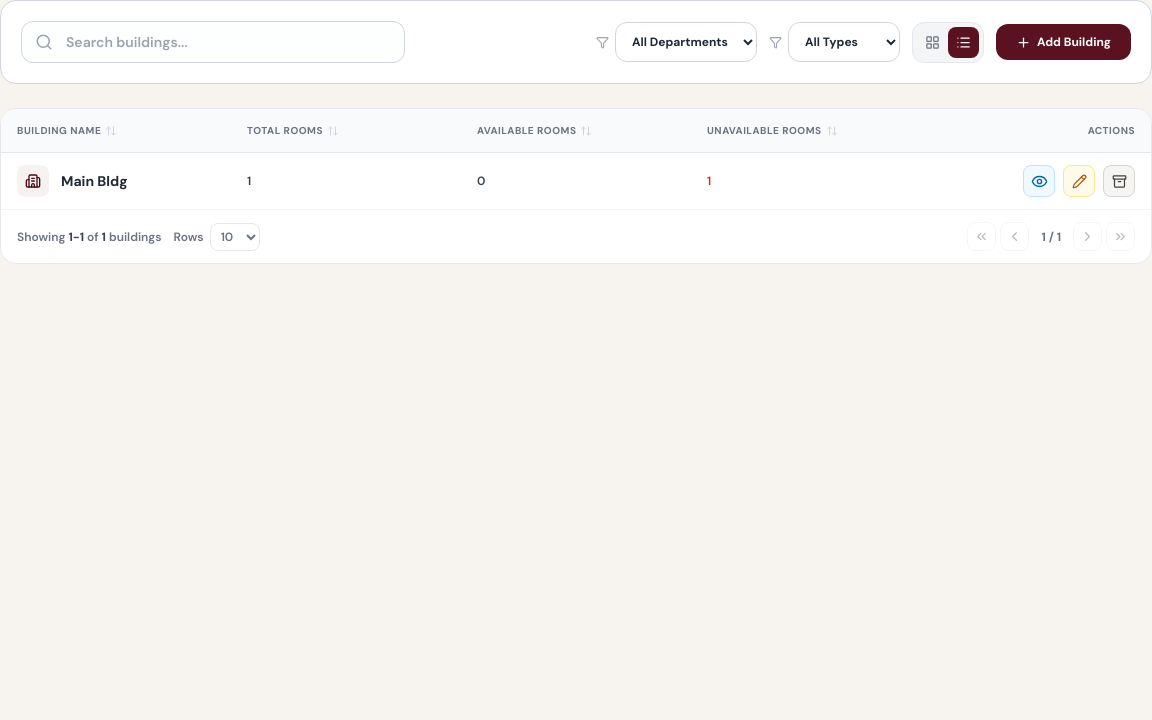
Scenario: Rooms component › edits room details without a status control or status write for not available rooms
Click the text "Main Bldg".
click(94, 181)  # box [61,171,128,191]
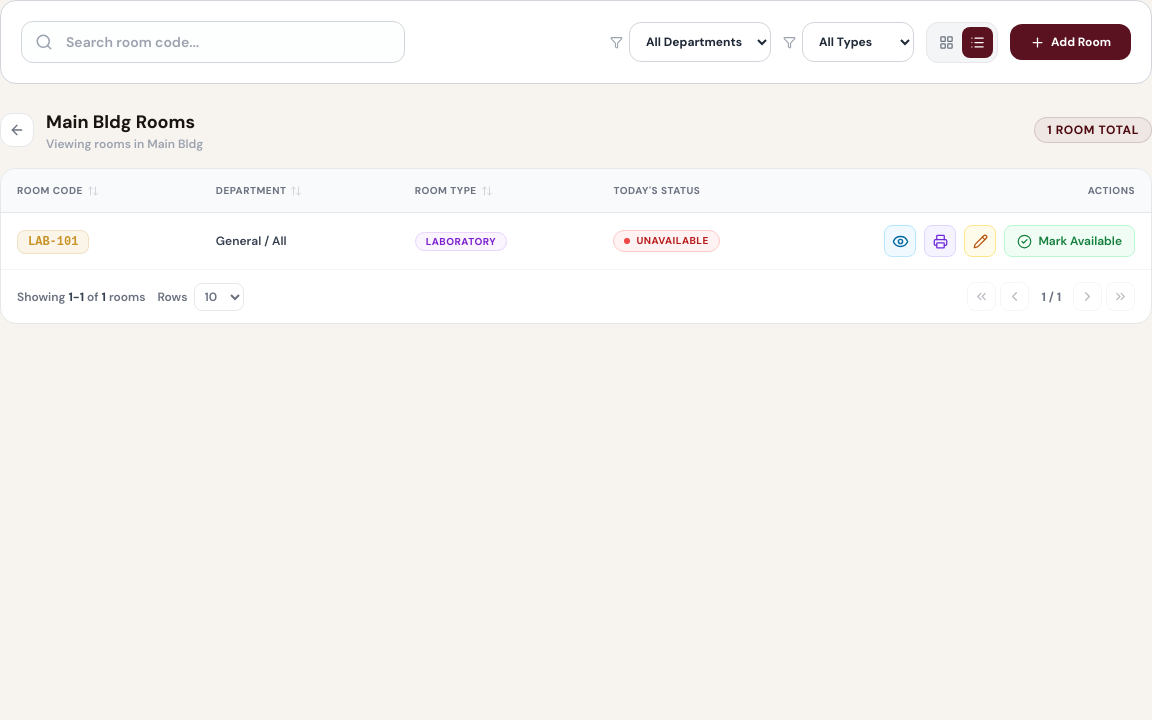
Click the button named "Edit Room".
click(980, 241)  # box [964,225,996,257]
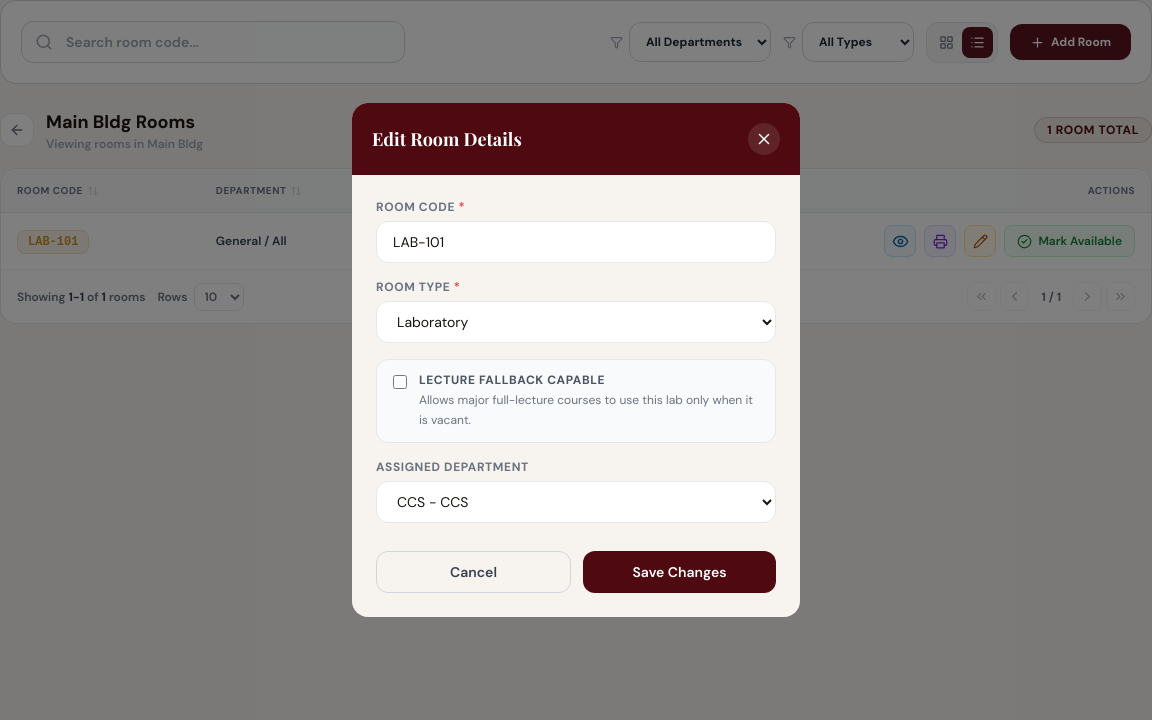
Check: the heading "Edit Room Details" is shown, box [372,125,522,153]
Replace the text in the field showing "LAB-101" with "LAB-102" at (576, 242), box [376,221,776,263]
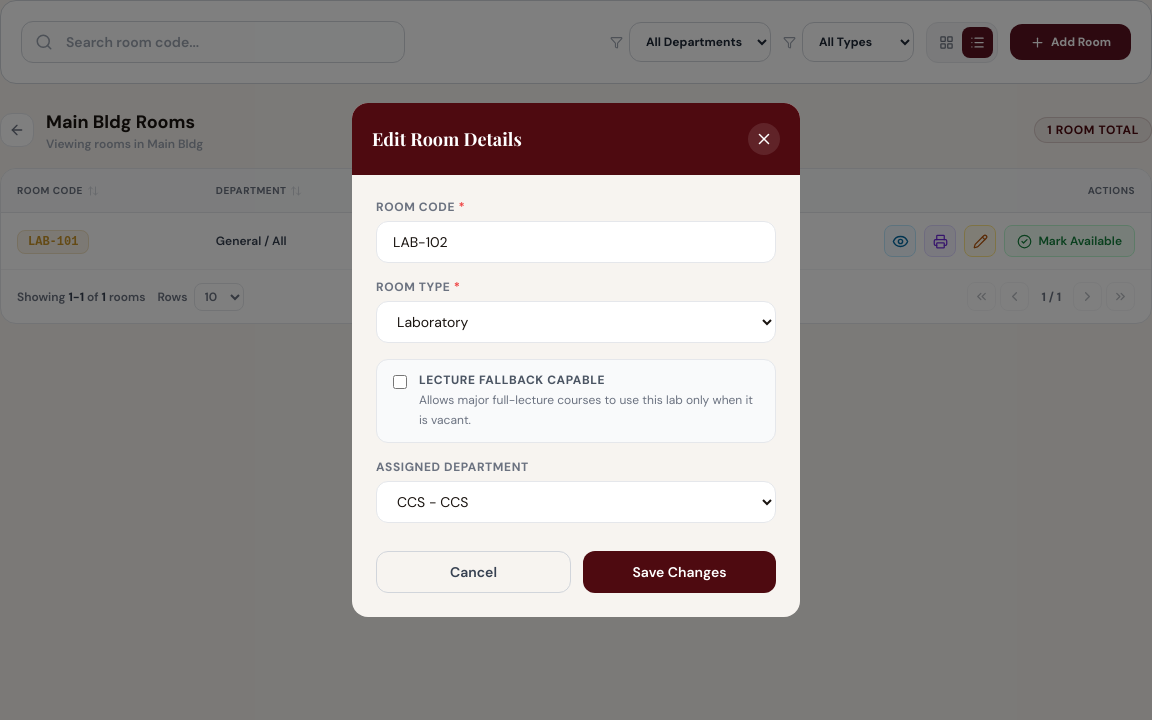
Click the button "Save Changes".
click(680, 572)  # box [583,551,776,593]
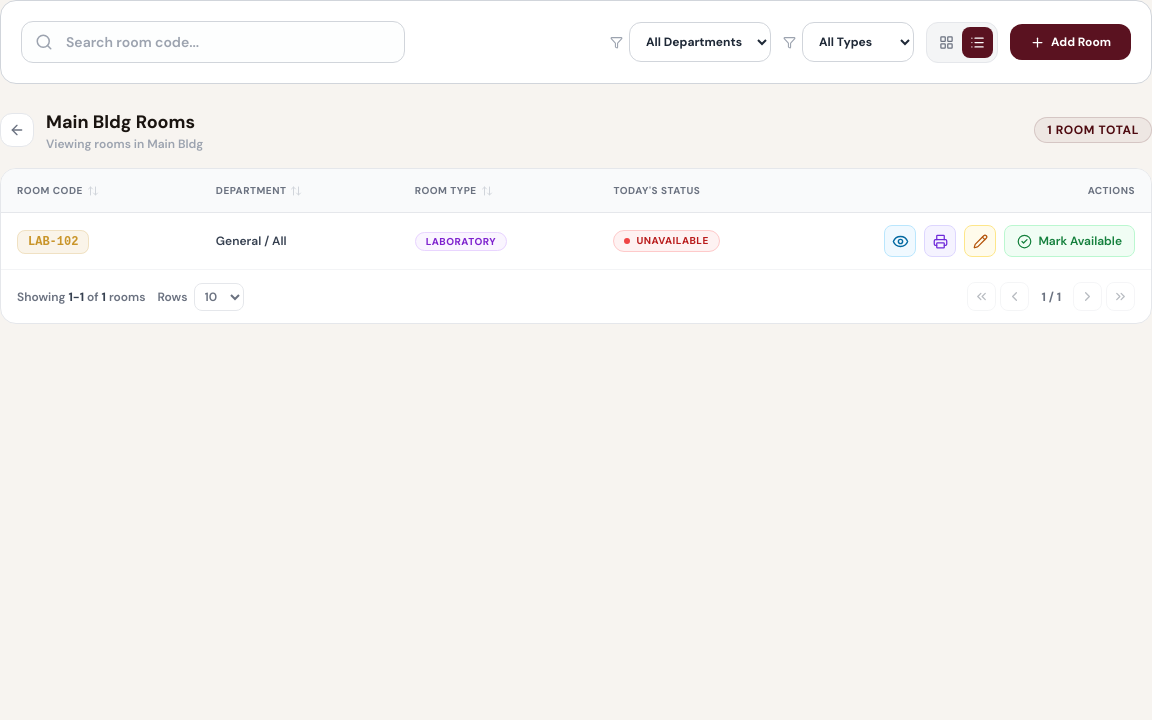
Check: the button "Mark Available" is shown, box [1004,225,1135,257]
Check: the heading "Edit Room Details" is gone
